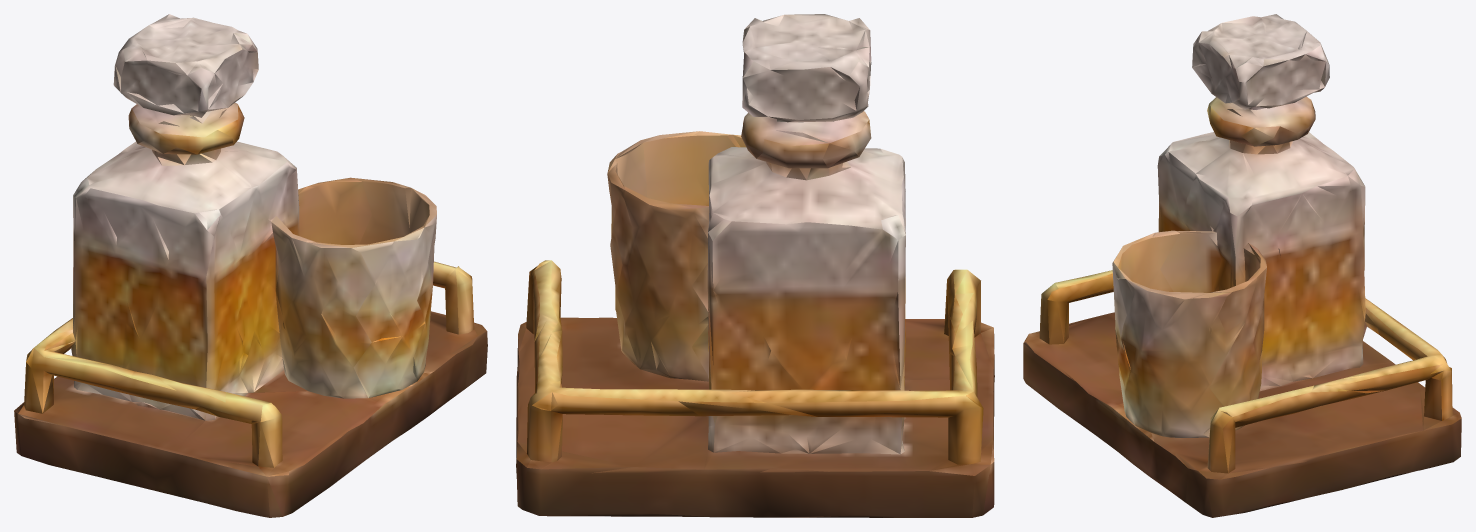
File: deco29.glb
The picture shows the model from 3 angles, left to right: view 1: azimuth 30°, elevation 25°; view 2: azimuth 150°, elevation 25°; view 3: azimuth 270°, elevation 25°; orthographic projection. The views are drawn at different scales.
Bounding box in the file's own units: 0.2493 × 0.2051 × 0.2288.
1 material, 1 textured.
